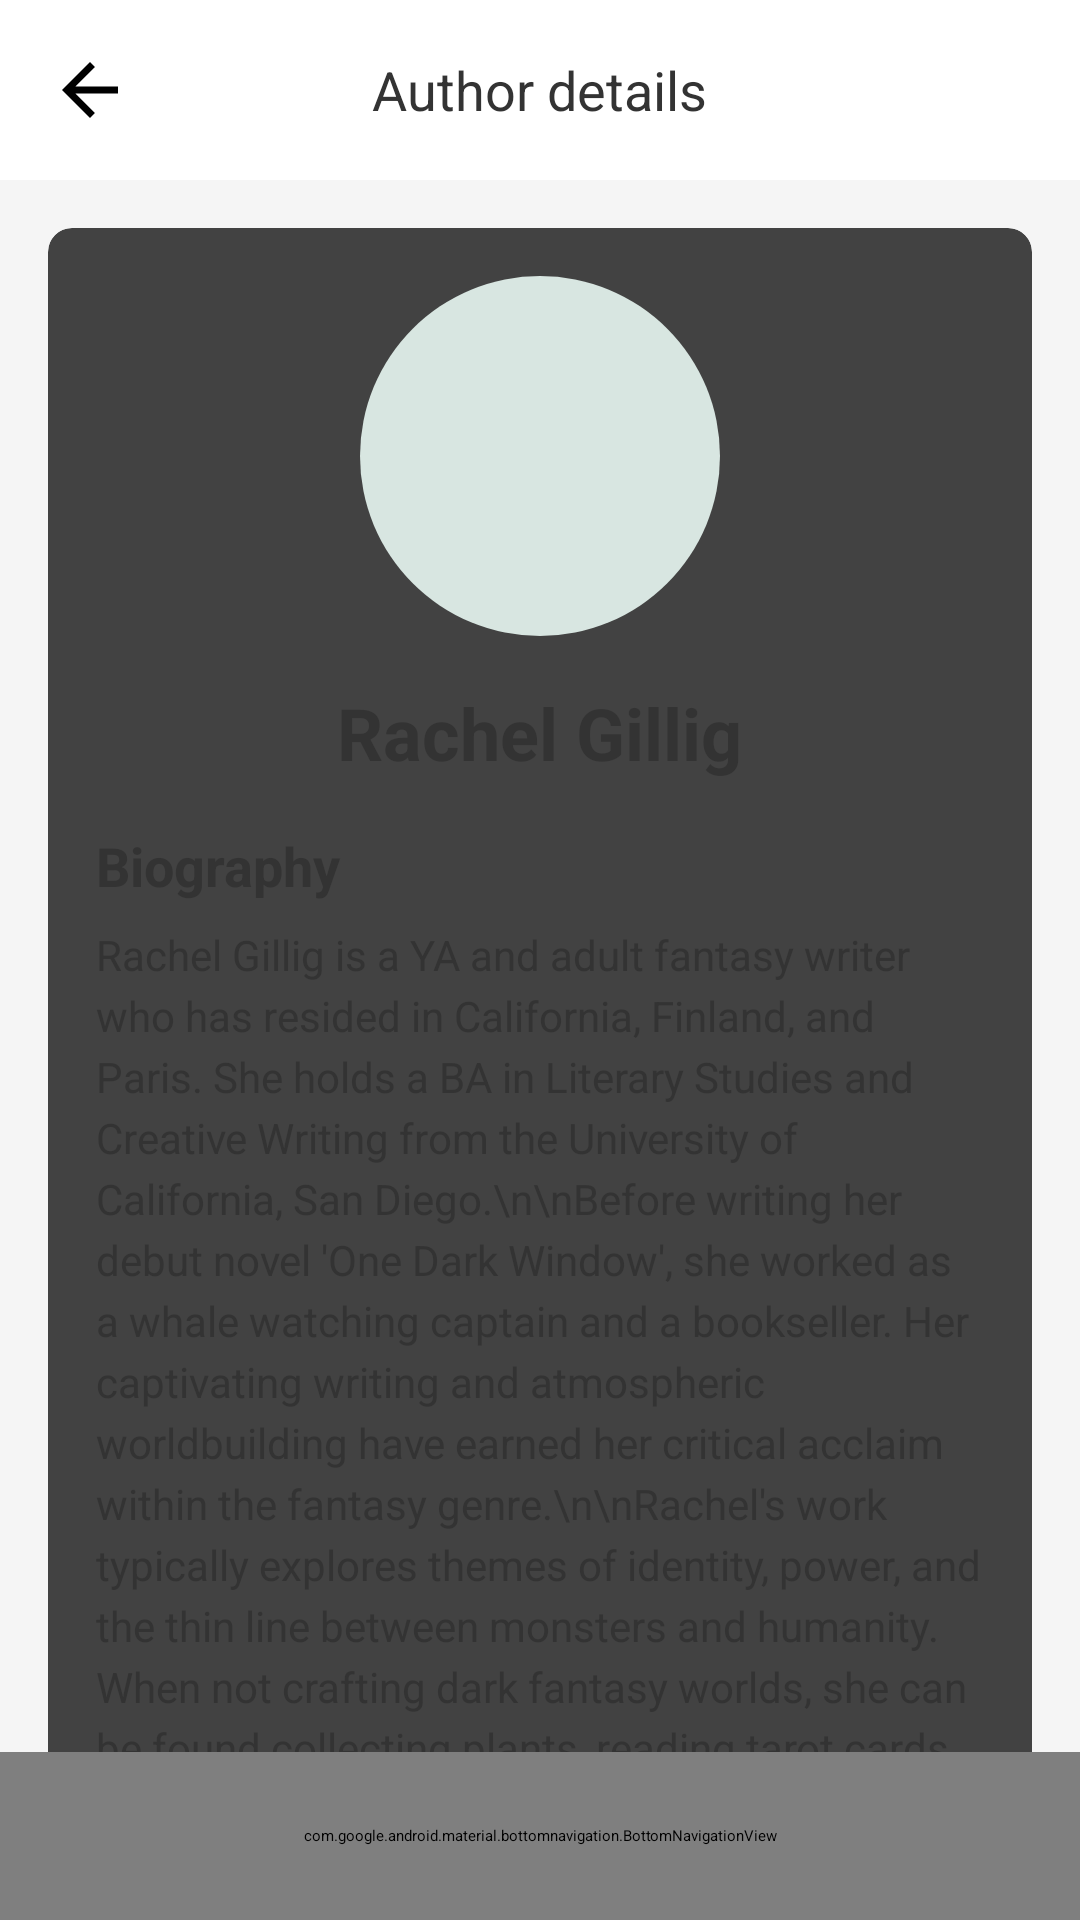

Screen size 1080px x 1920px. Icon name, then its box in pixels as (x1,y1,x2,y2):
Back: (62,62,118,118)
